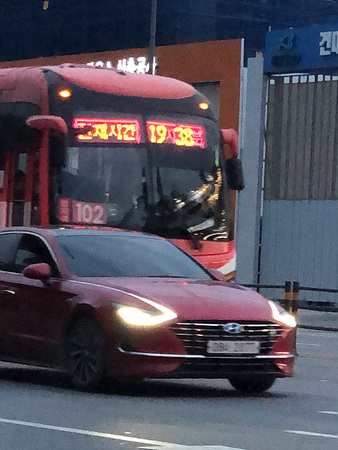bnum: (72, 201, 104, 225)
